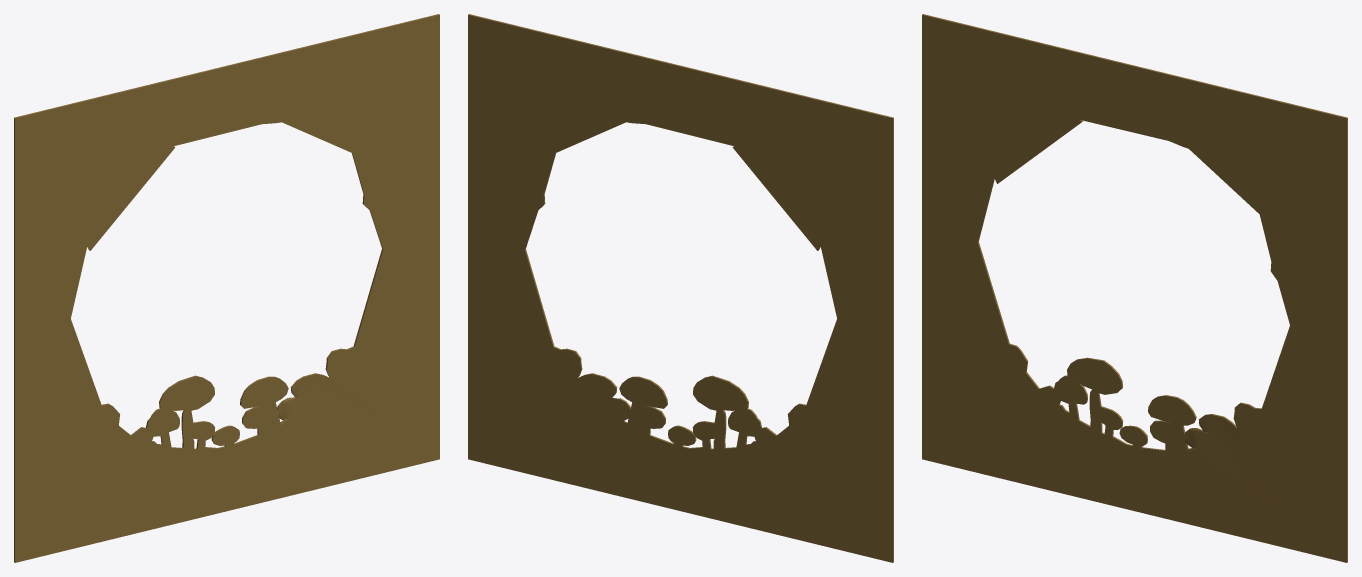
Rendered from Autumn_A_1.fbx.
The picture shows the model from 3 angles, left to right: view 1: azimuth 30°, elevation 25°; view 2: azimuth 150°, elevation 25°; view 3: azimuth 330°, elevation 25°; orthographic projection.
Parts seen in each view (by area): view 1: fall1a; view 2: fall1a; view 3: fall1a.
Part boxes in pixels (x1,y1,x2,y2): fall1a: (14, 14, 439, 562); fall1a: (468, 14, 893, 562); fall1a: (922, 14, 1347, 562).
Bounding box in the file's own units: 10.12 × 10.12 × 0.0458.
